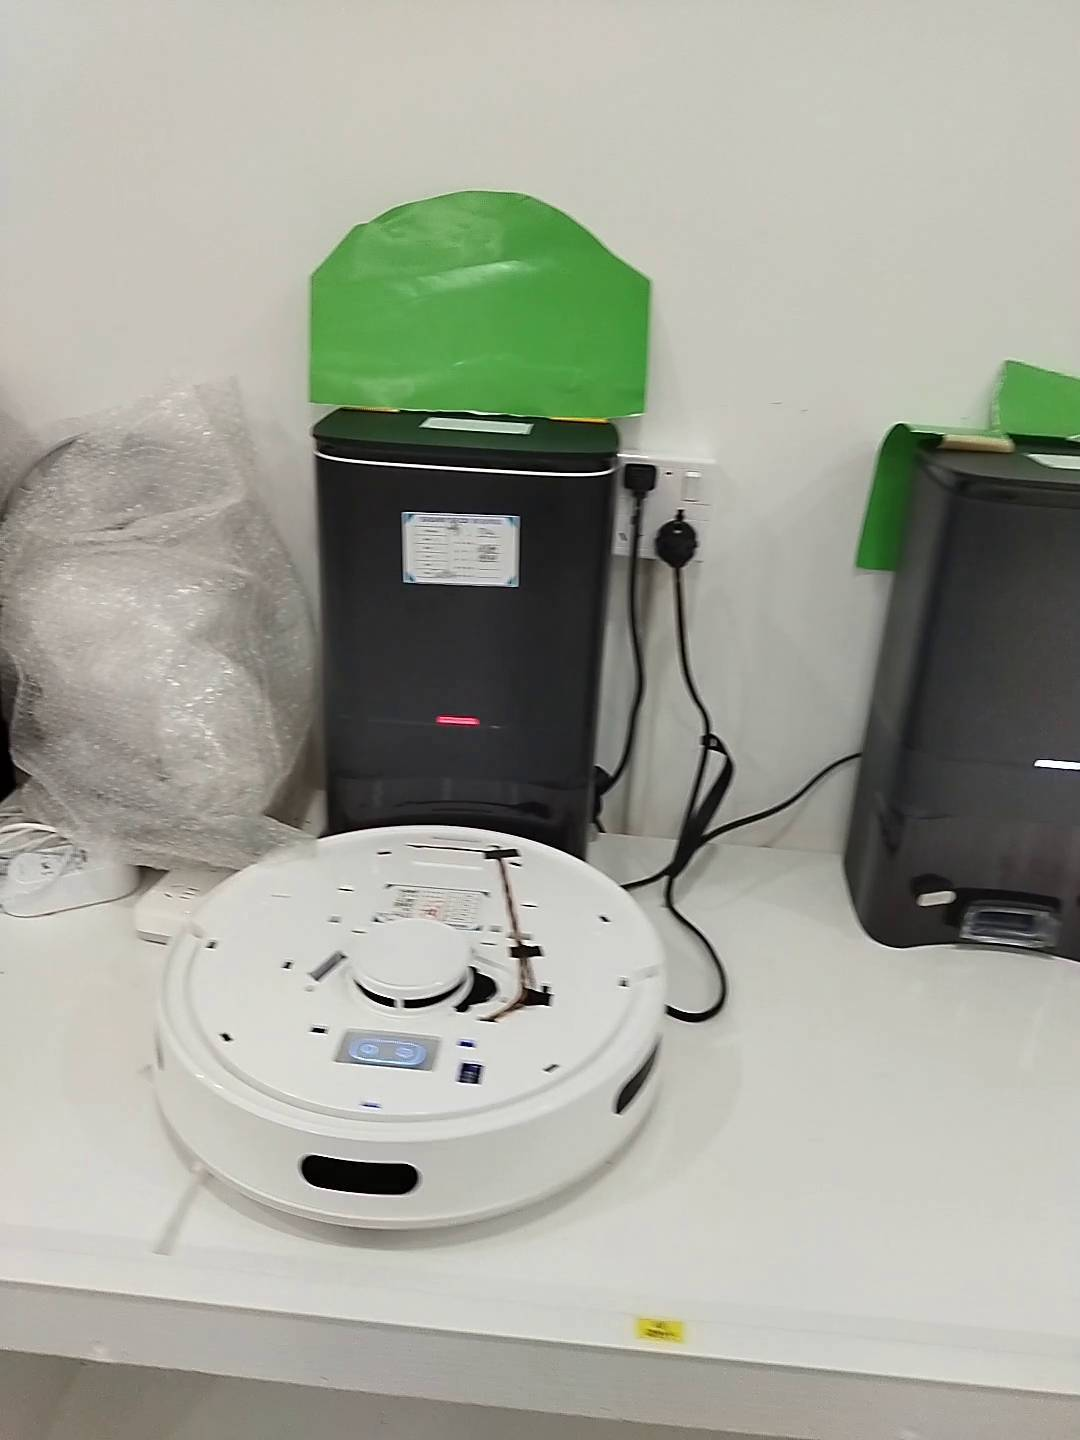dust collecting barrel: (317, 408, 624, 861), (841, 454, 1080, 962)
